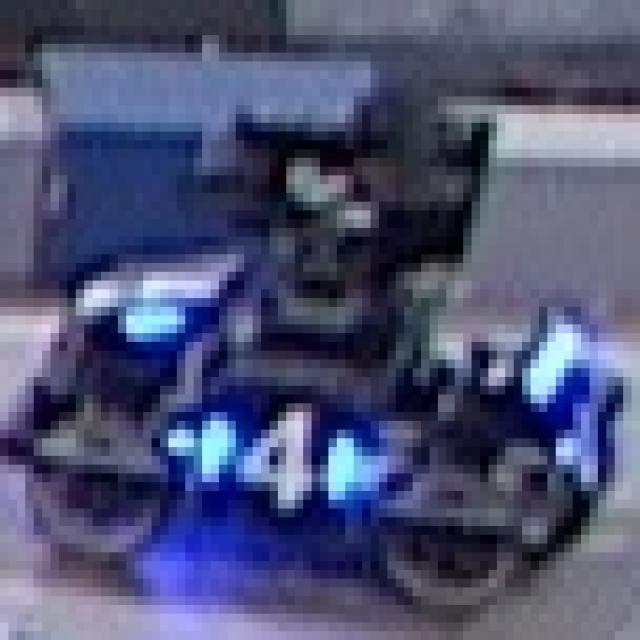B4: (194, 394, 354, 508)
